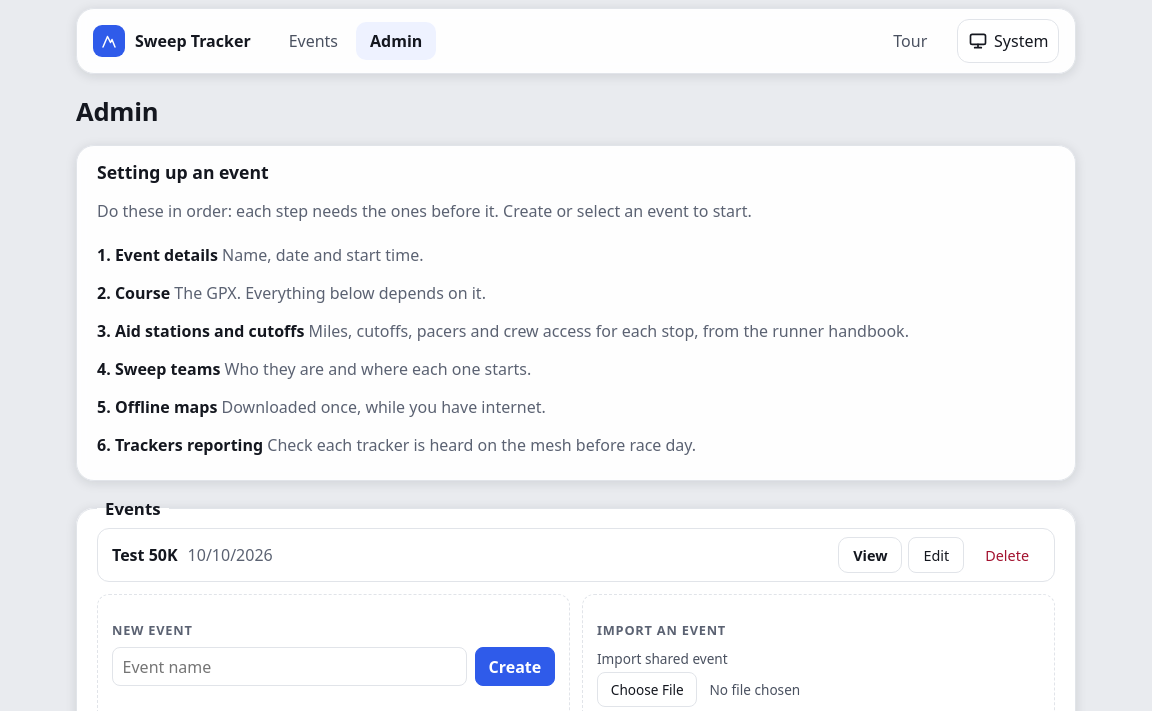
Scenario: AdminPage › setup guide › marks the maps step done once a download brings tiles in
This screenshot has width=1152, height=711.
Click the button with aria-label "Edit Test 50K" at (936, 555), box left=908, top=537, right=964, bottom=573
(page scrolled)
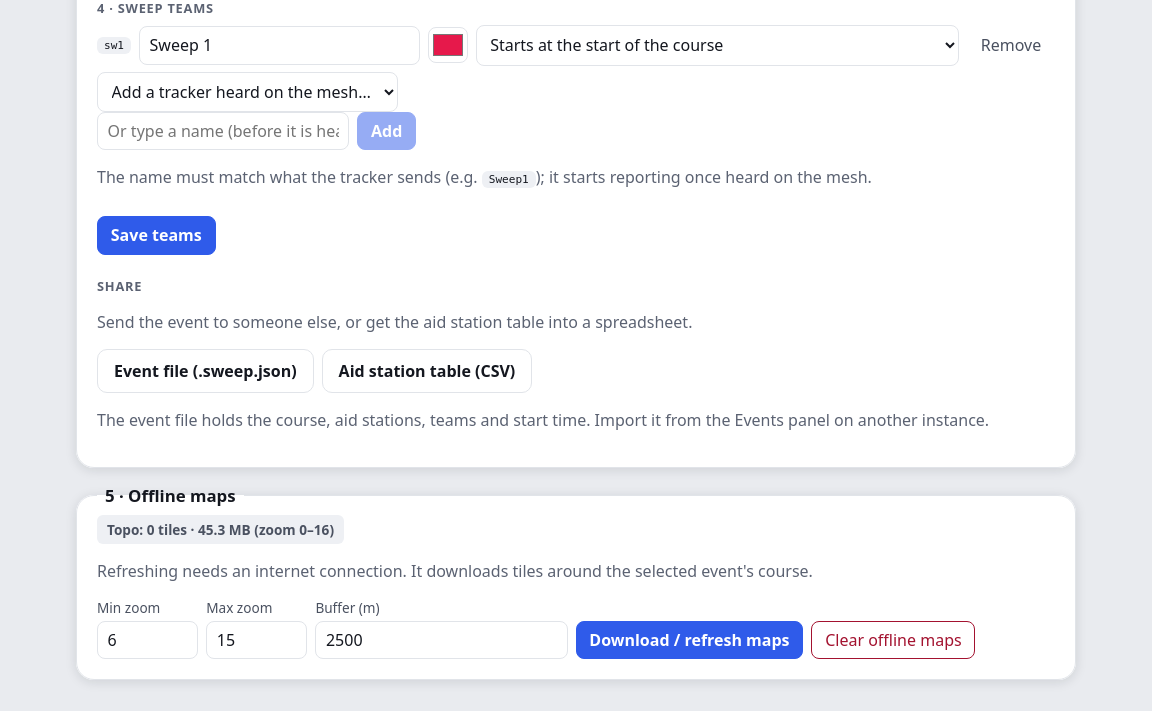
Click the button "Download / refresh maps" at (690, 640), box left=576, top=621, right=803, bottom=659
(page scrolled)
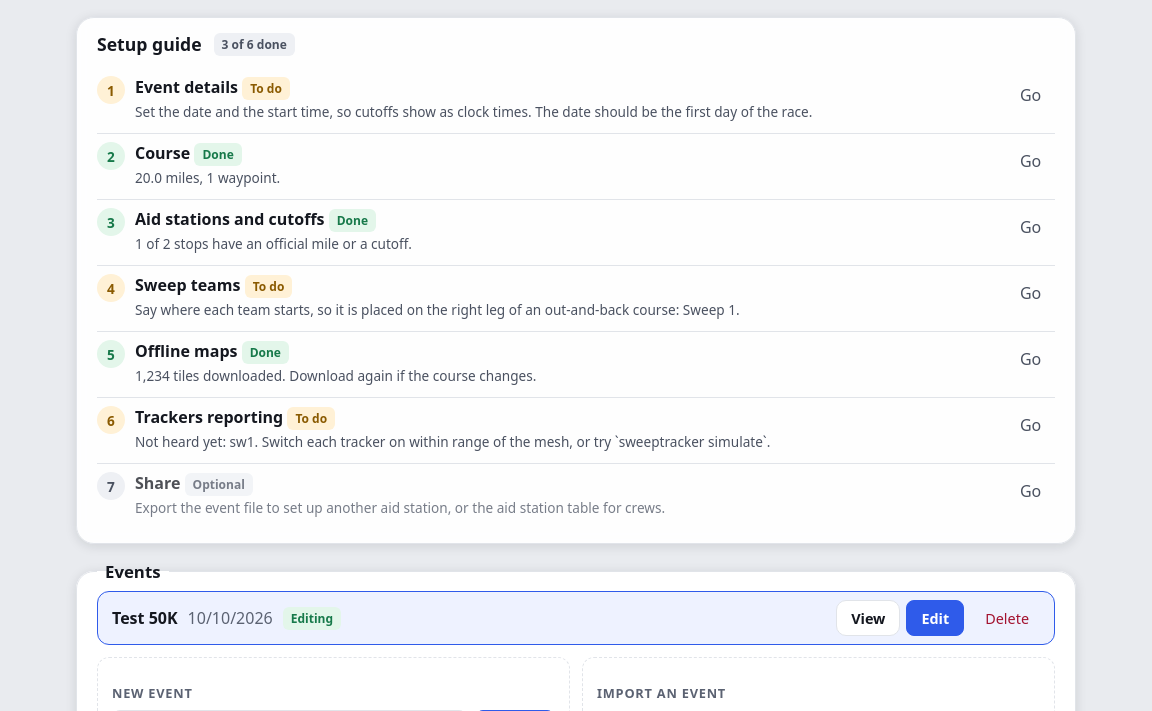
Now the 3rd text "Done" is shown, box left=242, top=341, right=289, bottom=364
